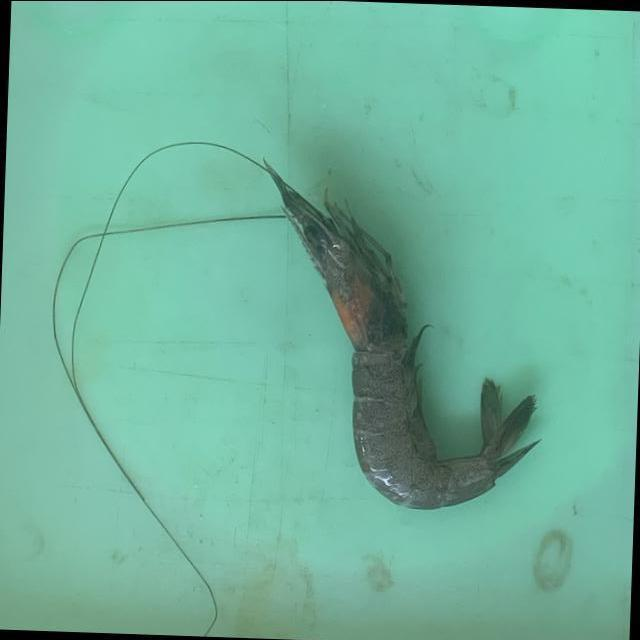shrimp: (265, 163, 536, 509)
